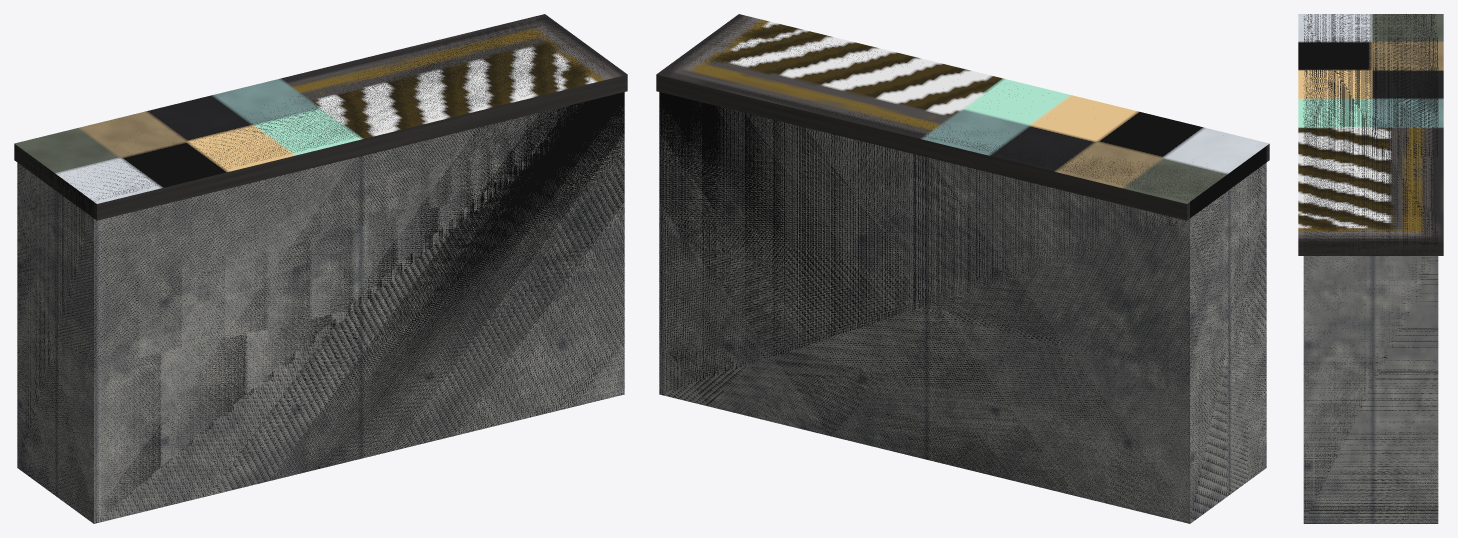
File: bund.fbx
3 renders of one model, left to right at view 1: azimuth 30°, elevation 25°; view 2: azimuth 150°, elevation 25°; view 3: azimuth 270°, elevation 25°, orthographic. The views are drawn at different scales.
Visible parts, largest first — view 1: bund, col_wall; view 2: bund, col_wall; view 3: bund, col_wall.
Part boxes in pixels (bbox=[...]): bund: bbox=[14, 14, 627, 523]; col_wall: bbox=[17, 16, 624, 523]; bund: bbox=[656, 14, 1269, 523]; col_wall: bbox=[659, 16, 1266, 523]; bund: bbox=[1298, 14, 1443, 523]; col_wall: bbox=[1303, 14, 1438, 523].
Bounding box in the file's own units: 2 × 1.16 × 0.54.
2 materials, 2 textured.
